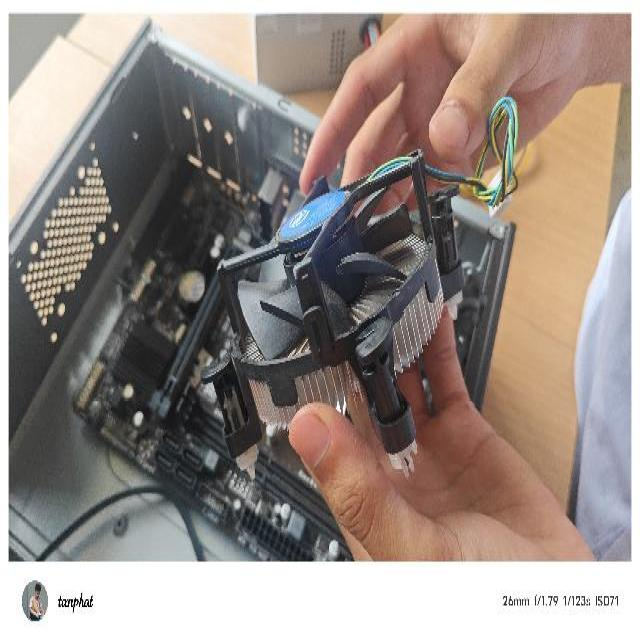CPU_Fan: (198, 138, 475, 485)
